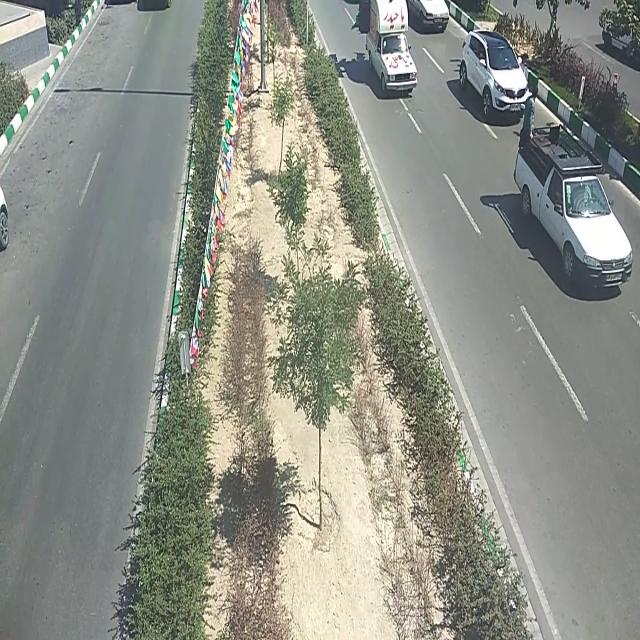car: (515, 127, 633, 294), (459, 24, 528, 123), (360, 0, 422, 91), (408, 4, 452, 38)
